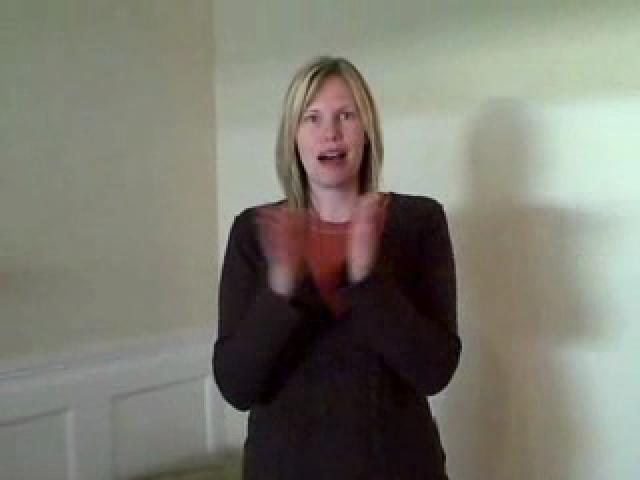F: (195, 51, 468, 470)
